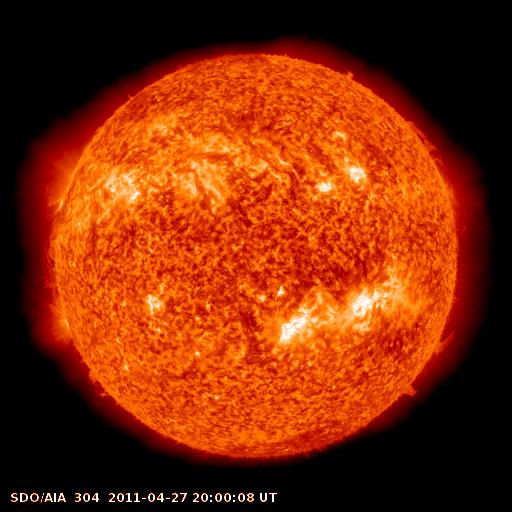prominence: (31, 208, 73, 302), (401, 110, 450, 169), (77, 363, 119, 405), (423, 329, 466, 364), (395, 376, 431, 409), (336, 63, 361, 85)
